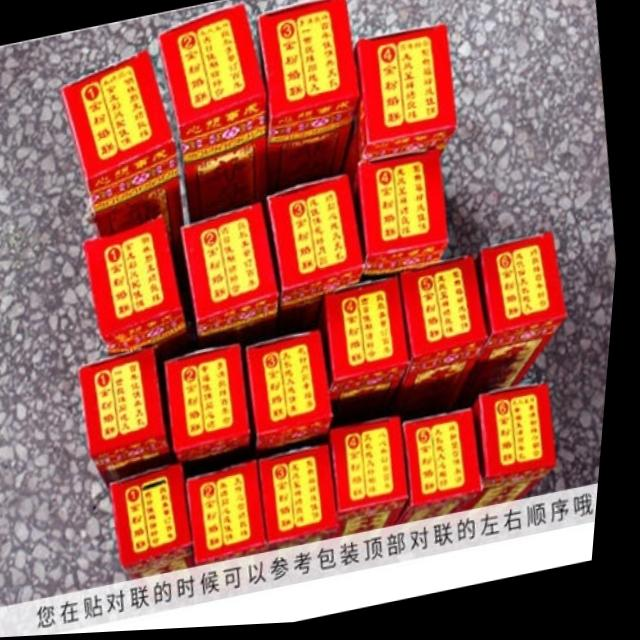box: (157, 5, 272, 225), (62, 48, 187, 247), (257, 0, 362, 200), (466, 237, 573, 406), (343, 28, 457, 184), (399, 261, 494, 422), (264, 178, 369, 319), (88, 216, 192, 356), (86, 349, 180, 491), (186, 205, 283, 339), (355, 154, 453, 279), (325, 279, 417, 404), (479, 390, 565, 517), (252, 332, 339, 453), (170, 346, 258, 465), (405, 414, 495, 530), (337, 420, 421, 541), (117, 467, 204, 582), (267, 447, 348, 554), (195, 463, 277, 568)
